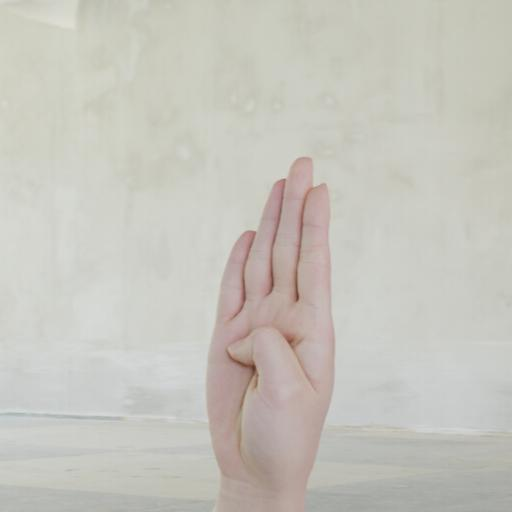B: (186, 143, 364, 499)
